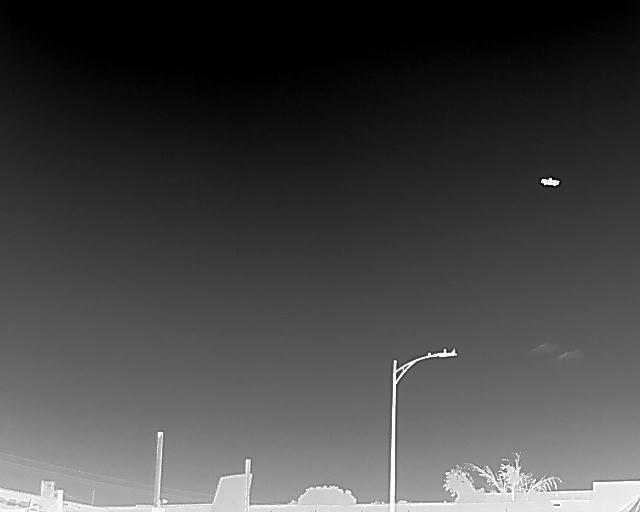fpv-drone: (540, 177, 560, 187)
